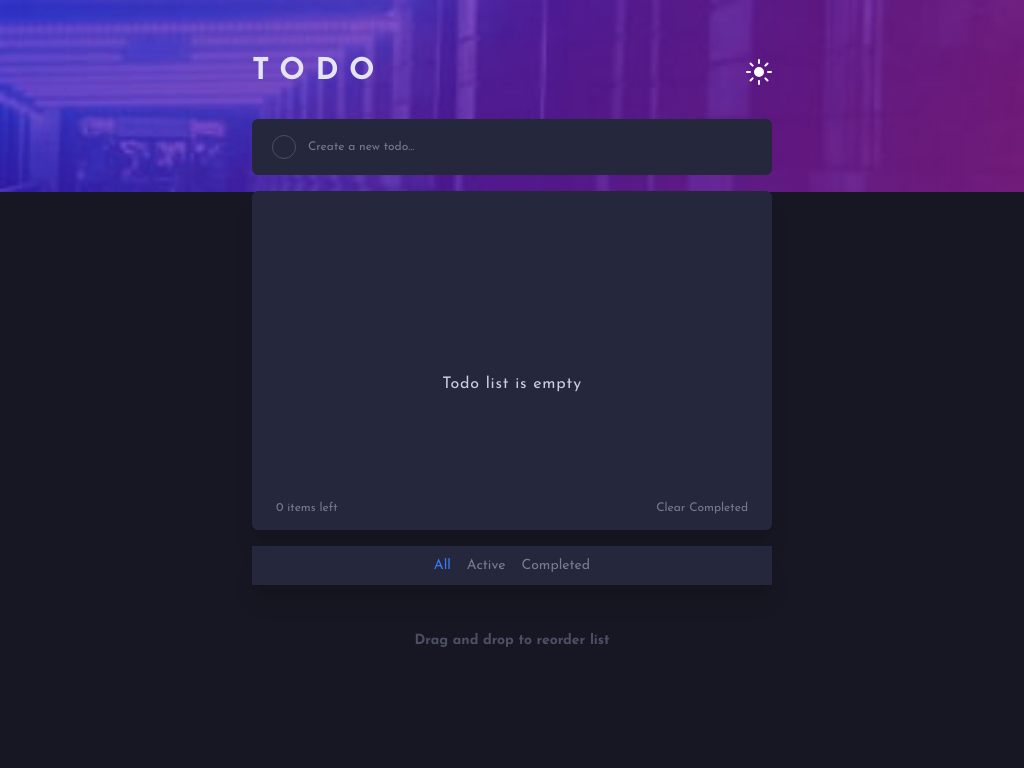
Test: todo list
This screenshot has width=1024, height=768.
Type "wash the dishes" into the field at (374,147), box top-left (308, 135), bottom-right (441, 159)
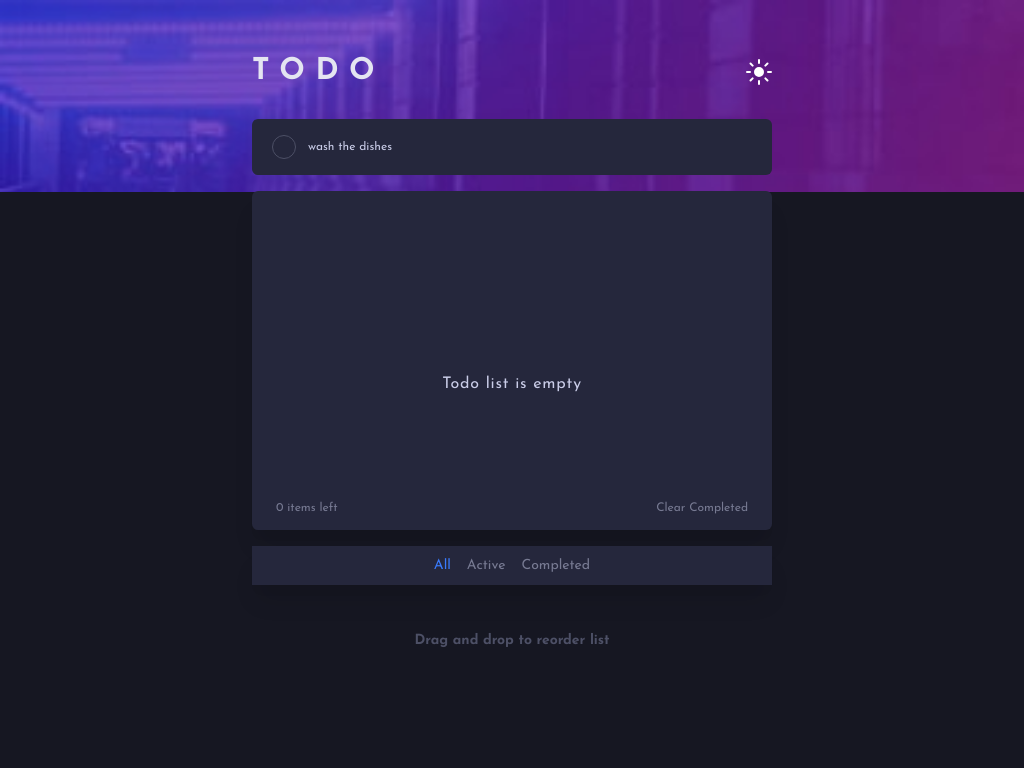
Submit the form, box top-left (252, 119), bottom-right (772, 175)
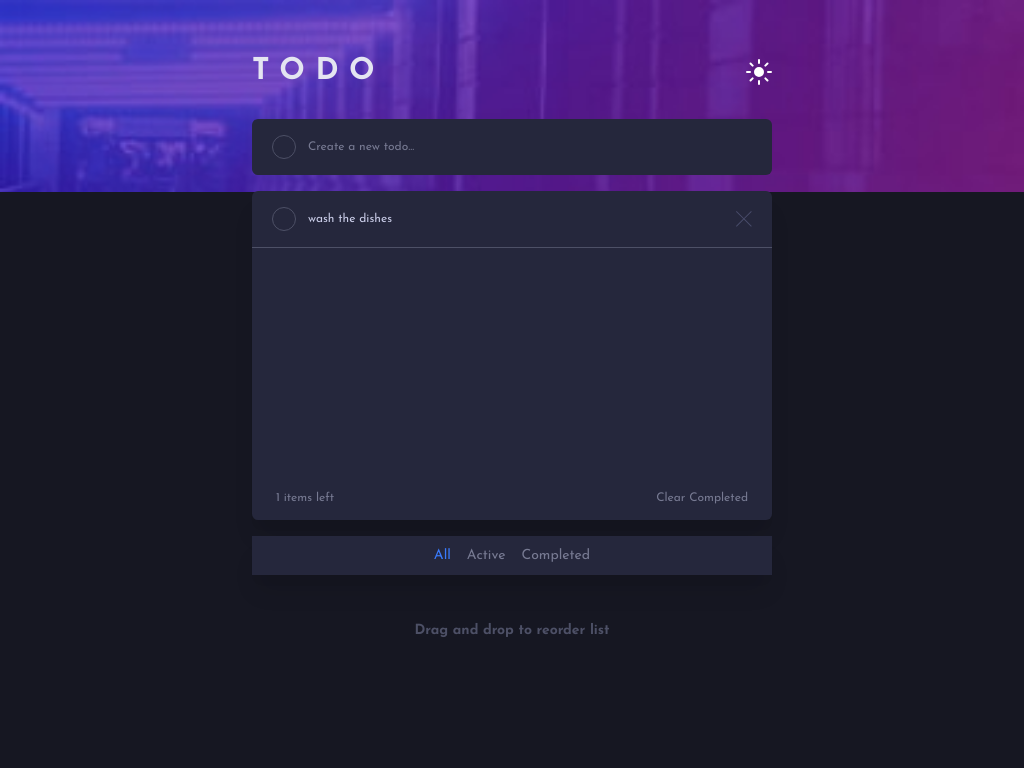
Check: the field is empty, box top-left (308, 135), bottom-right (441, 159)
Check: the text "wash the dishes" is shown, box top-left (308, 213), bottom-right (392, 225)
Click the picture with alt text "cross" at (744,219), box top-left (736, 211), bottom-right (752, 227)
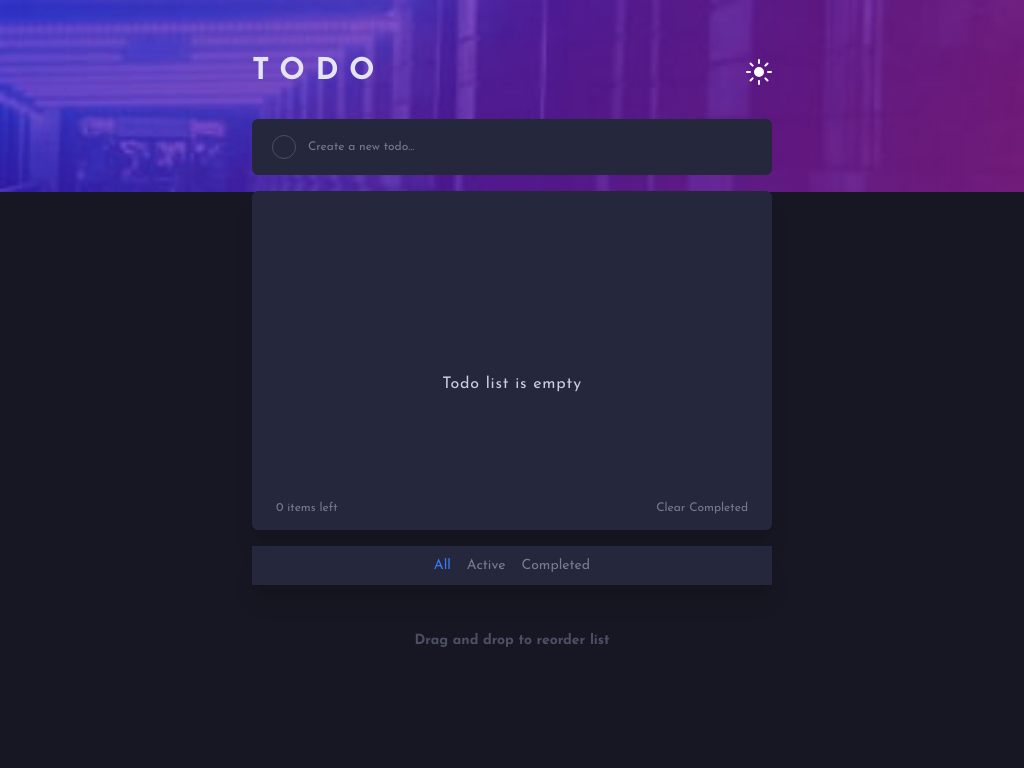
Check: the text "wash the dishes" is gone
